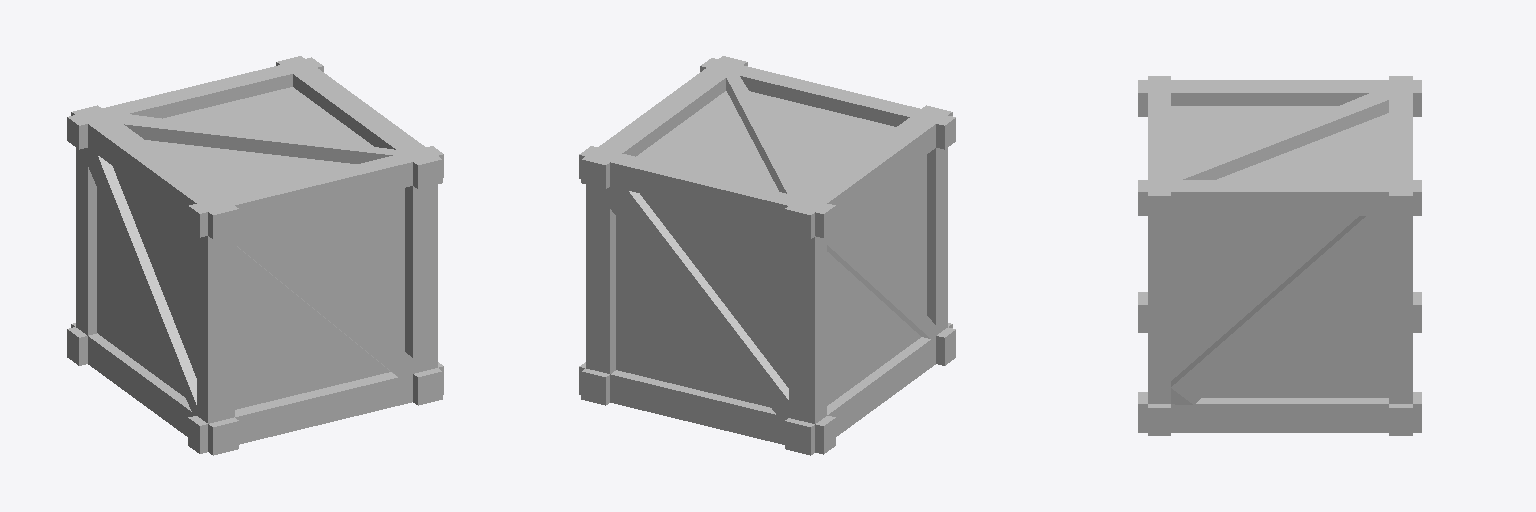
File: crate.obj
3 views of the same model, side by side, from view 1: azimuth 30°, elevation 25°; view 2: azimuth 150°, elevation 25°; view 3: azimuth 270°, elevation 25° (orthographic).
Visible parts, largest first — view 1: Cube.002; view 2: Cube.002; view 3: Cube.002.
Boxes of the visible parts, box(x1,y1,x2,y2) form: Cube.002: box(67, 56, 443, 455); Cube.002: box(579, 56, 955, 455); Cube.002: box(1138, 76, 1421, 435).
Bounding box in the file's own units: 1.6 × 1.5 × 1.6.